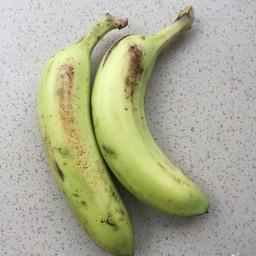Good_banana: (97, 6, 229, 219), (37, 7, 134, 253)
